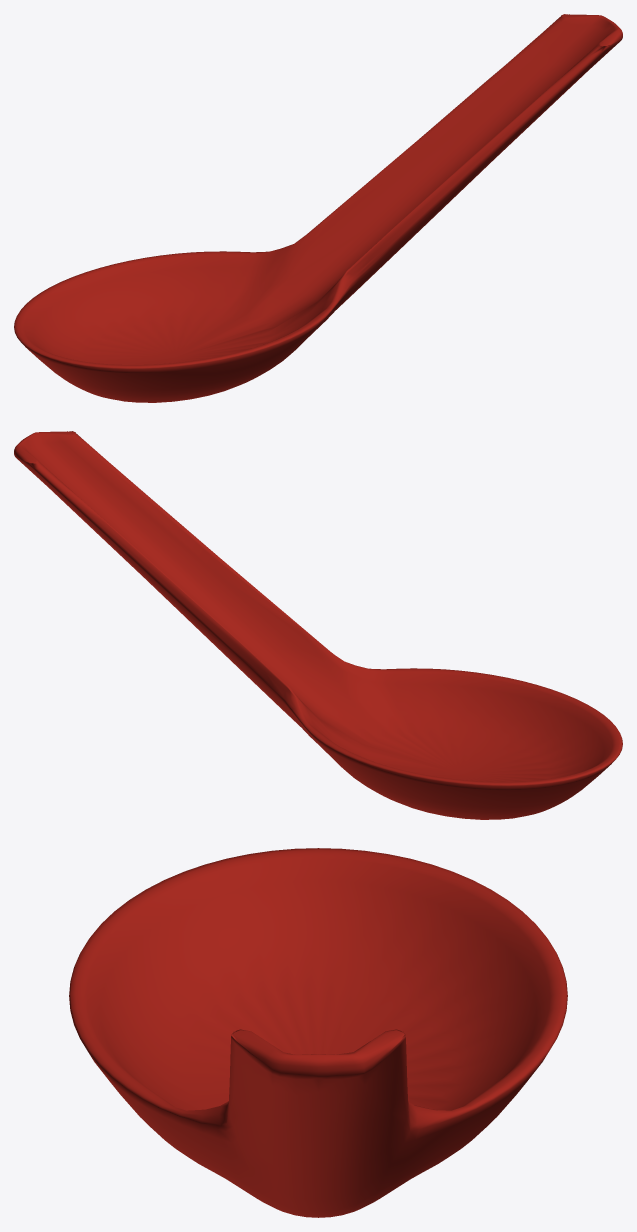
Rendered from spoon.fbx.
3 views of the same model, one above another, from view 1: azimuth 30°, elevation 25°; view 2: azimuth 150°, elevation 25°; view 3: azimuth 270°, elevation 25° (orthographic). The views are drawn at different scales.
Parts seen in each view (by area): view 1: Spoon; view 2: Spoon; view 3: Spoon.
Part boxes in pixels (left/top/right/bottom): Spoon: left=14, top=14, right=622, bottom=402; Spoon: left=14, top=431, right=622, bottom=819; Spoon: left=69, top=848, right=567, bottom=1217.
Bounding box in the file's own units: 623 × 255 × 229.
